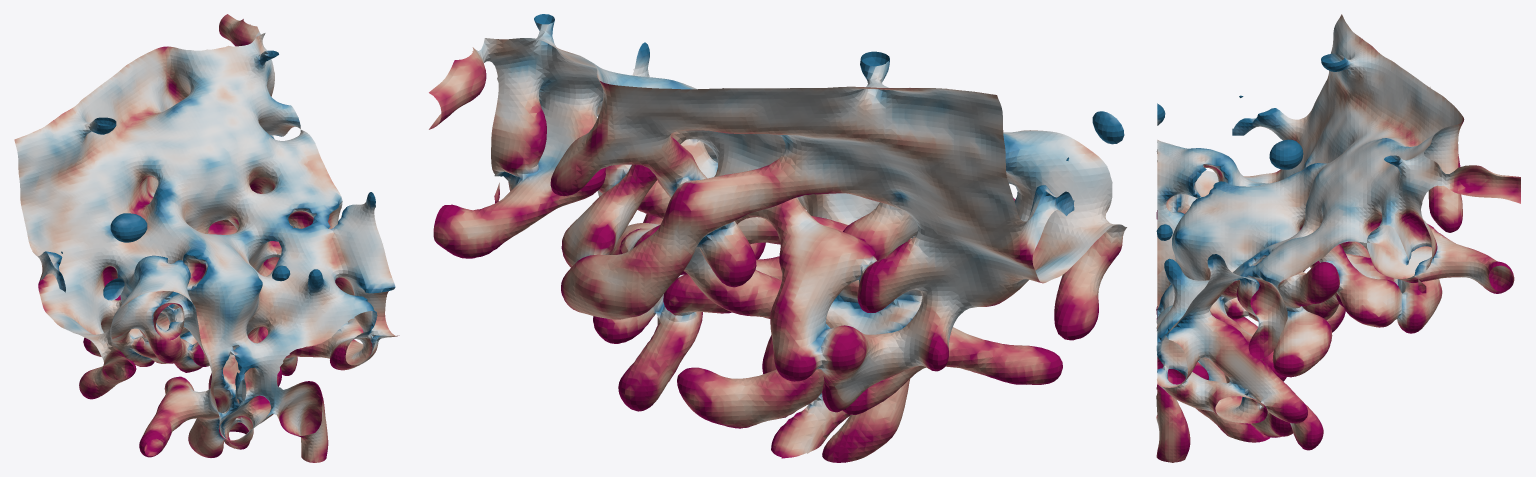
The model's file is crop1043_deviation.glb.
The picture shows the model from 3 angles, left to right: view 1: azimuth 30°, elevation 25°; view 2: azimuth 150°, elevation 25°; view 3: azimuth 270°, elevation 25°; orthographic projection. The views are drawn at different scales.
Visible parts, largest first — view 1: world; view 2: world; view 3: world.
Boxes of the visible parts, x1,y1,x2,y2 form: world: [14, 14, 399, 462]; world: [429, 14, 1126, 462]; world: [1156, 14, 1520, 462].
Bounding box in the file's own units: 1480 × 1480 × 1478.
